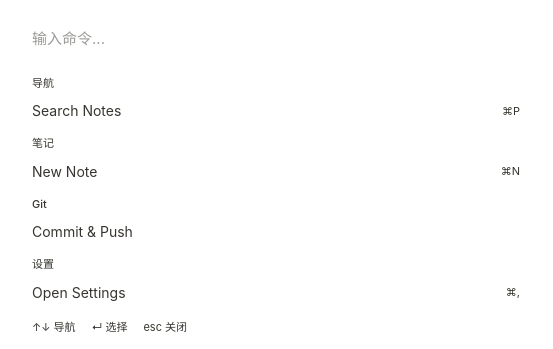
Test: CommandPalette › localizes command palette chrome
Type "zzzzzzz" into the field with placeholder "输入命令...". click: (276, 39)
box: [16,16,536,62]
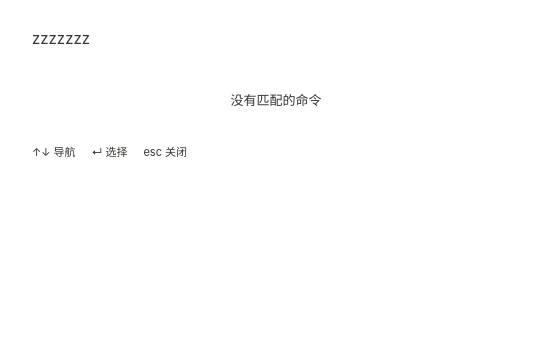
Expected: the text "↑↓ 导航" is shown, [32,144,76,160]
Expected: the text "没有匹配的命令" is shown, [230,92,322,108]
